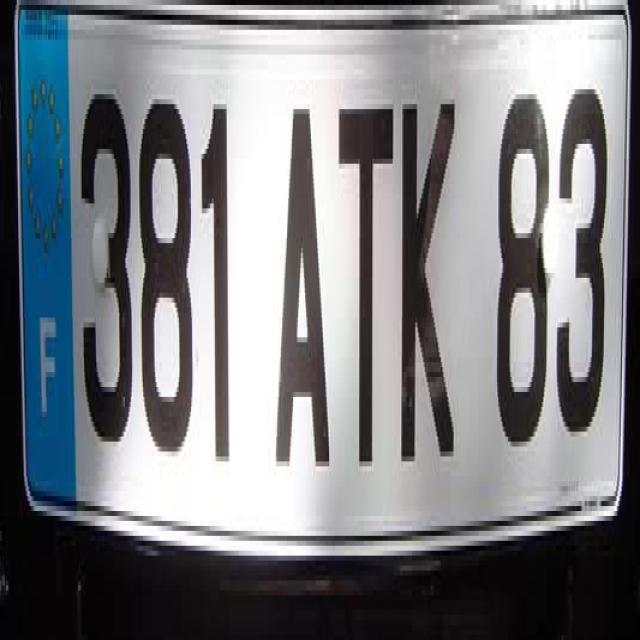EU: (14, 6, 630, 512)
France: (20, 15, 75, 507)
